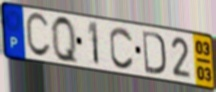1: (87, 20, 100, 68)
2: (170, 35, 193, 79)
C: (25, 11, 53, 60), (108, 25, 136, 71)
D: (141, 28, 167, 76)
Q: (50, 13, 80, 67)
